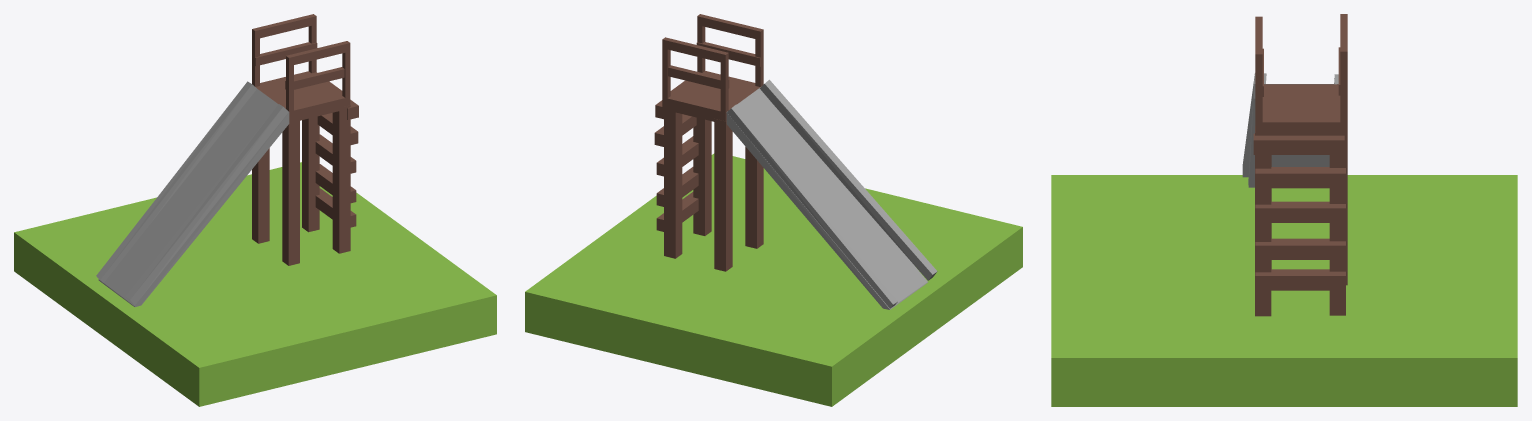
File: Slide.fbx
3 views of the same model, side by side, from view 1: azimuth 30°, elevation 25°; view 2: azimuth 150°, elevation 25°; view 3: azimuth 270°, elevation 25° (orthographic). The views are drawn at different scales.
Parts seen in each view (by area): view 1: mesh_802784085, mesh_650782234, mesh_1626858831, mesh_1513641808, mesh_1495126401, mesh_259328212, mesh_351825828, mesh_558239142, mesh_505921642, mesh_521371781, mesh_1749784812, mesh_676817793 (+4 smaller); view 2: mesh_802784085, mesh_650782234, mesh_1626858831, mesh_1513641808, mesh_505921642, mesh_558239142, mesh_351825828, mesh_1495126401, mesh_259328212, mesh_521371781, mesh_1749784812, mesh_676817793 (+5 smaller); view 3: mesh_802784085, mesh_351825828, mesh_291221840, mesh_1913716188, mesh_768381821, mesh_1692492344, mesh_56707247, mesh_1495126401, mesh_558239142, mesh_650782234, mesh_1626858831, mesh_2103551680.
Part boxes in pixels (bbox=[...]): mesh_802784085: bbox=[14, 162, 496, 406]; mesh_650782234: bbox=[98, 89, 289, 306]; mesh_1626858831: bbox=[125, 104, 288, 305]; mesh_1513641808: bbox=[96, 81, 256, 282]; mesh_1495126401: bbox=[332, 105, 350, 253]; mesh_259328212: bbox=[282, 117, 299, 265]; mesh_351825828: bbox=[256, 71, 350, 120]; mesh_558239142: bbox=[302, 116, 319, 232]; mesh_505921642: bbox=[252, 148, 269, 243]; mesh_521371781: bbox=[252, 14, 316, 39]; mesh_1749784812: bbox=[286, 41, 350, 66]; mesh_676817793: bbox=[255, 42, 317, 66]; mesh_802784085: bbox=[525, 153, 1022, 406]; mesh_650782234: bbox=[726, 87, 927, 309]; mesh_1626858831: bbox=[759, 79, 937, 280]; mesh_1513641808: bbox=[726, 104, 897, 308]; mesh_505921642: bbox=[714, 118, 732, 271]; mesh_558239142: bbox=[664, 109, 682, 258]; mesh_351825828: bbox=[662, 71, 760, 121]; mesh_1495126401: bbox=[693, 117, 711, 235]; mesh_259328212: bbox=[745, 146, 763, 248]; mesh_521371781: bbox=[662, 37, 728, 62]; mesh_1749784812: bbox=[697, 14, 763, 38]; mesh_676817793: bbox=[668, 65, 729, 88]; mesh_802784085: bbox=[1051, 175, 1517, 406]; mesh_351825828: bbox=[1255, 84, 1347, 136]; mesh_291221840: bbox=[1255, 167, 1345, 188]; mesh_1913716188: bbox=[1255, 269, 1345, 290]; mesh_768381821: bbox=[1255, 201, 1345, 222]; mesh_1692492344: bbox=[1255, 238, 1345, 259]; mesh_56707247: bbox=[1253, 133, 1344, 154]; mesh_1495126401: bbox=[1255, 126, 1271, 316]; mesh_558239142: bbox=[1329, 137, 1345, 315]; mesh_650782234: bbox=[1248, 84, 1338, 187]; mesh_1626858831: bbox=[1242, 73, 1266, 177]; mesh_2103551680: bbox=[1340, 62, 1347, 122].
Bounding box in the file's own units: 295 × 237 × 318.
